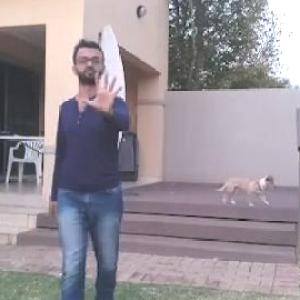follow_hand: (74, 66, 132, 121)
